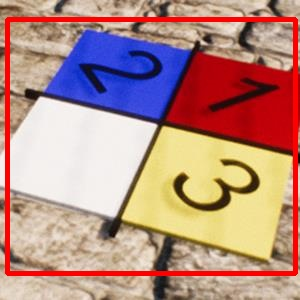nfpa: (7, 19, 295, 273)
